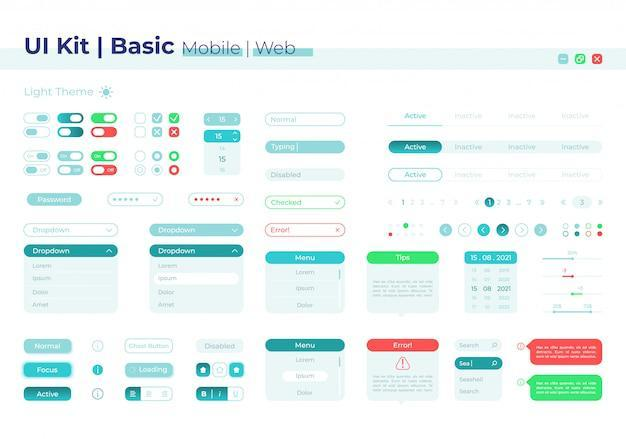button: (368, 338, 441, 354), (155, 274, 241, 287), (266, 252, 346, 265), (267, 340, 346, 353), (368, 252, 440, 265), (25, 339, 74, 356), (24, 363, 74, 379), (389, 141, 443, 155), (389, 169, 443, 183), (27, 194, 83, 207), (126, 364, 174, 379), (25, 387, 72, 402), (196, 341, 245, 354), (126, 340, 173, 353)
checkbox: (136, 127, 147, 139), (136, 113, 147, 124), (170, 114, 181, 125), (153, 114, 163, 125), (153, 128, 164, 138), (170, 128, 180, 138)
dropdown: (150, 245, 244, 259), (24, 224, 119, 237), (25, 246, 119, 258), (151, 225, 244, 237), (205, 131, 241, 143)
icon: (99, 86, 116, 101), (126, 387, 142, 402), (197, 387, 213, 402), (213, 387, 229, 402), (229, 387, 244, 402), (231, 363, 245, 379), (459, 224, 474, 238), (197, 364, 212, 378), (214, 363, 228, 378), (440, 225, 454, 238), (478, 225, 492, 238), (497, 224, 510, 238), (516, 224, 529, 238), (92, 341, 106, 354), (535, 225, 548, 238), (592, 54, 604, 66), (93, 365, 105, 377), (559, 54, 570, 66), (93, 389, 104, 401), (575, 55, 587, 65), (161, 390, 170, 399), (145, 390, 153, 399)
input: (266, 113, 347, 127), (266, 196, 347, 210), (266, 224, 346, 238), (267, 169, 346, 182), (267, 142, 346, 154), (190, 193, 244, 207), (108, 194, 163, 207), (456, 358, 503, 371), (456, 340, 502, 353)
label: (23, 37, 177, 60), (182, 40, 299, 58), (25, 86, 95, 99), (562, 112, 590, 122), (507, 112, 536, 121), (455, 112, 483, 121), (562, 144, 590, 153), (455, 144, 484, 152), (509, 144, 537, 152), (404, 113, 429, 121), (295, 269, 317, 278), (459, 377, 485, 384), (460, 388, 482, 396), (296, 357, 316, 365), (297, 373, 316, 381), (33, 263, 54, 270), (296, 286, 317, 293), (158, 289, 176, 297), (297, 390, 315, 398), (297, 302, 314, 310), (158, 302, 177, 309), (157, 264, 179, 270), (34, 276, 52, 283), (33, 290, 50, 297), (32, 303, 50, 309)
radio: (135, 165, 147, 177), (169, 165, 181, 177), (135, 151, 146, 163), (152, 165, 163, 177), (152, 152, 164, 162), (170, 151, 180, 163)
slider: (540, 251, 606, 265), (540, 268, 604, 281), (538, 303, 607, 315), (539, 285, 604, 297)
switch: (58, 113, 86, 125), (24, 165, 52, 177), (91, 127, 118, 139), (24, 151, 51, 163), (25, 127, 51, 139), (59, 151, 85, 163), (24, 114, 52, 125), (91, 165, 118, 176), (92, 152, 118, 163), (91, 114, 119, 124), (58, 166, 85, 176), (58, 128, 84, 138)
